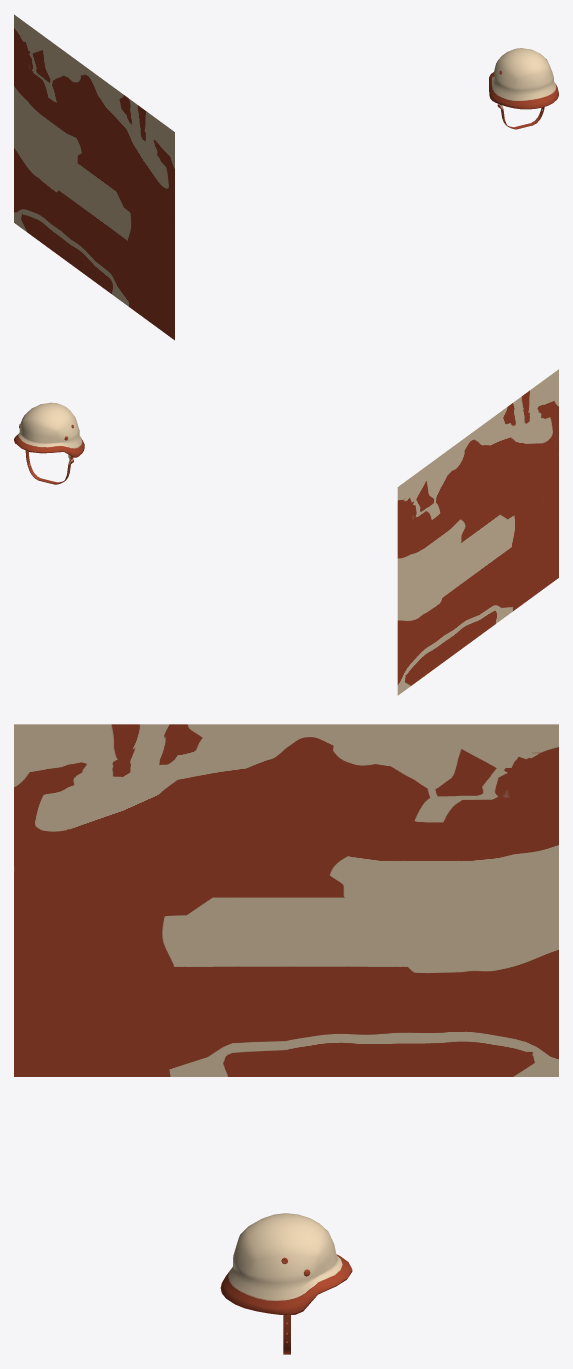
File: Final helm.fbx
3 views of the same model, one above another, from view 1: azimuth 30°, elevation 25°; view 2: azimuth 150°, elevation 25°; view 3: azimuth 270°, elevation 25° (orthographic). The views are drawn at different scales.
Visible parts, largest first — view 1: pPlane1, polySurface2; view 2: pPlane1, polySurface2; view 3: pPlane1, polySurface2.
Part boxes in pixels (x1,y1,x2,y2): pPlane1: (14,14,174,340); polySurface2: (489,48,558,109); pPlane1: (397,369,558,695); polySurface2: (14,402,84,457); pPlane1: (14,724,558,1076); polySurface2: (220,1213,352,1315).
Size of the model in its own units: 3.22 by 1.39 by 1.95.
